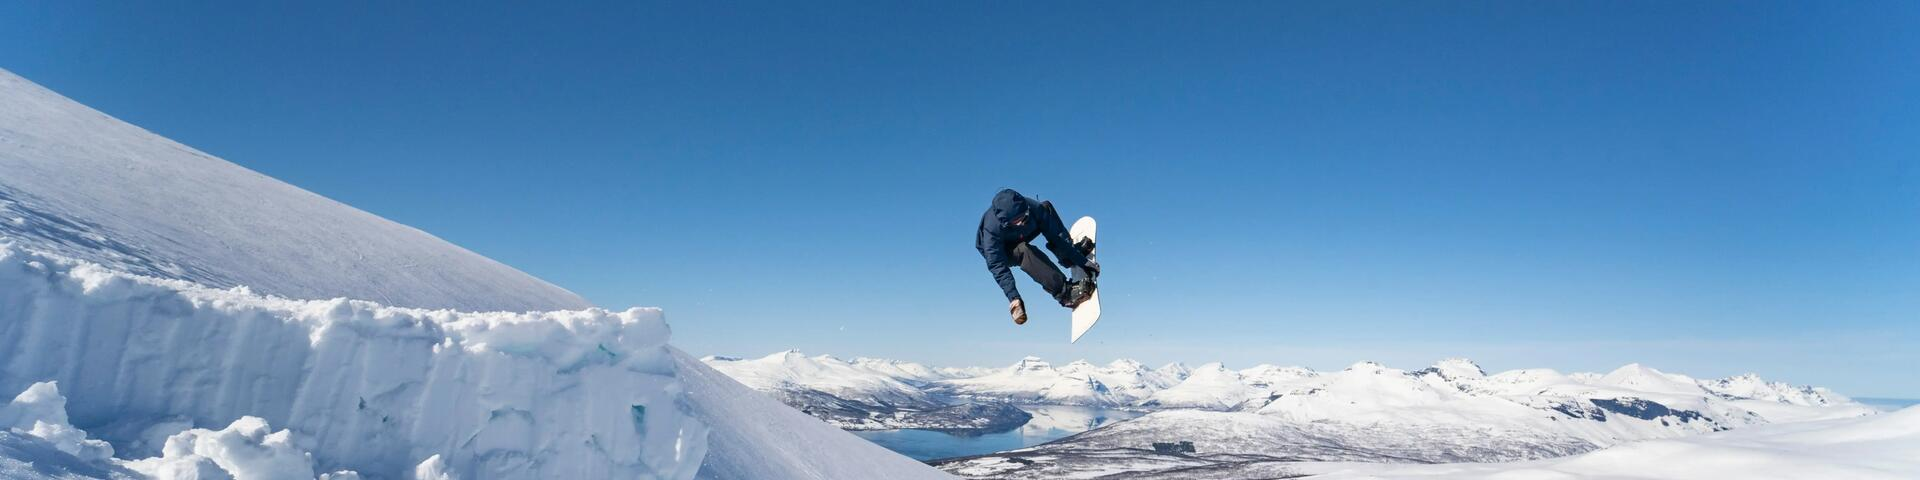snowboarder: (967, 171, 1114, 344)
